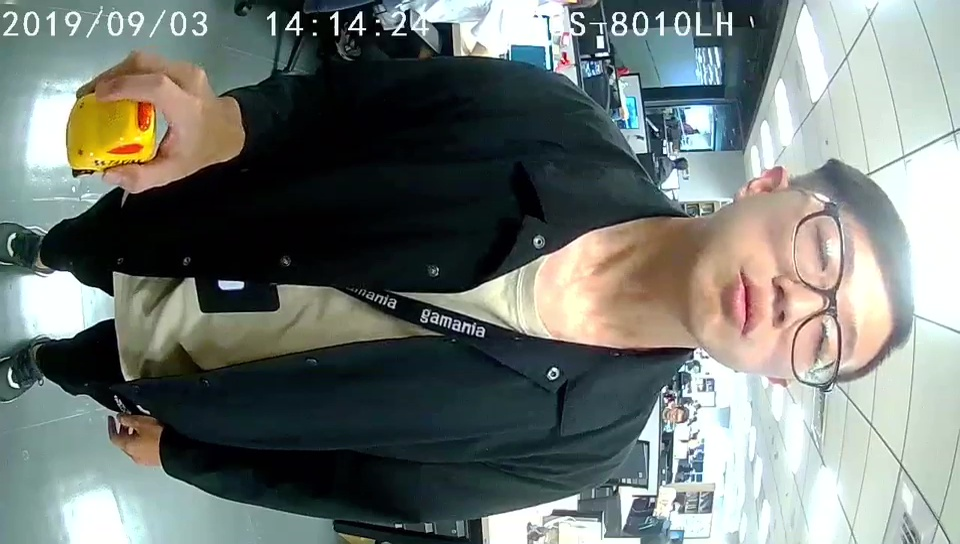car: (68, 95, 153, 169)
